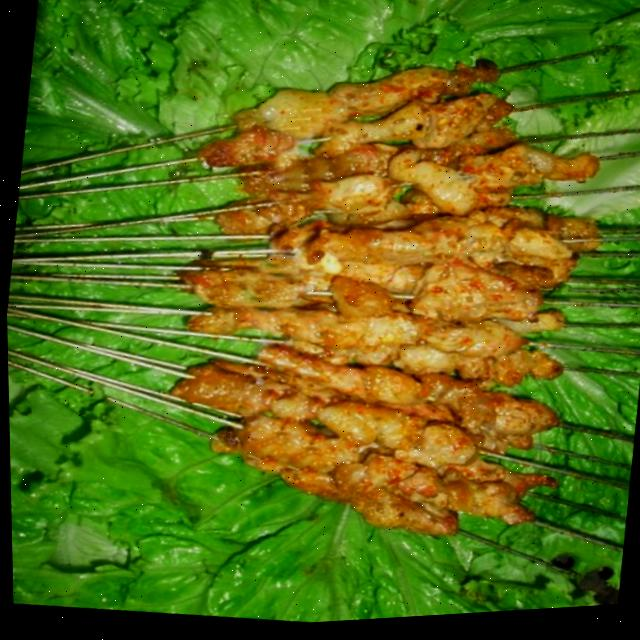烧串烤肉: (115, 0, 637, 620)
